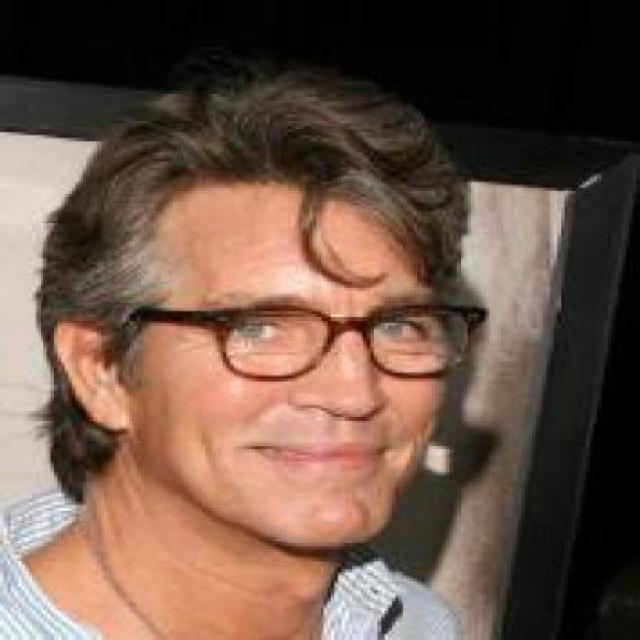closed-mouth: (241, 435, 387, 473)
